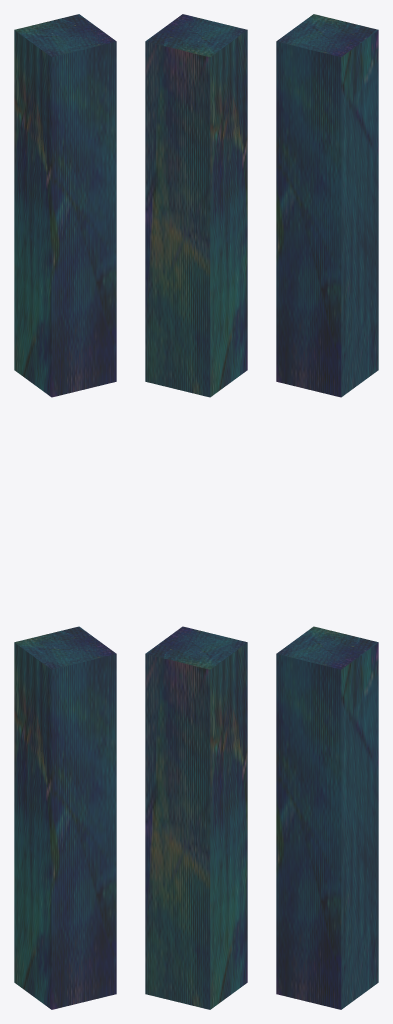
File: obs6.glb
The picture shows the model from 3 angles, left to right: view 1: azimuth 30°, elevation 25°; view 2: azimuth 150°, elevation 25°; view 3: azimuth 330°, elevation 25°; orthographic projection.
Parts seen in each view (by area): view 1: obs61; view 2: obs61; view 3: obs61.
Boxes of the visible parts, left/top/right/bottom form: obs61: left=14, top=14, right=116, bottom=1009; obs61: left=145, top=14, right=247, bottom=1009; obs61: left=276, top=14, right=378, bottom=1009.
Bounding box in the file's own units: 1 × 14 × 1.
1 material, 1 textured.
